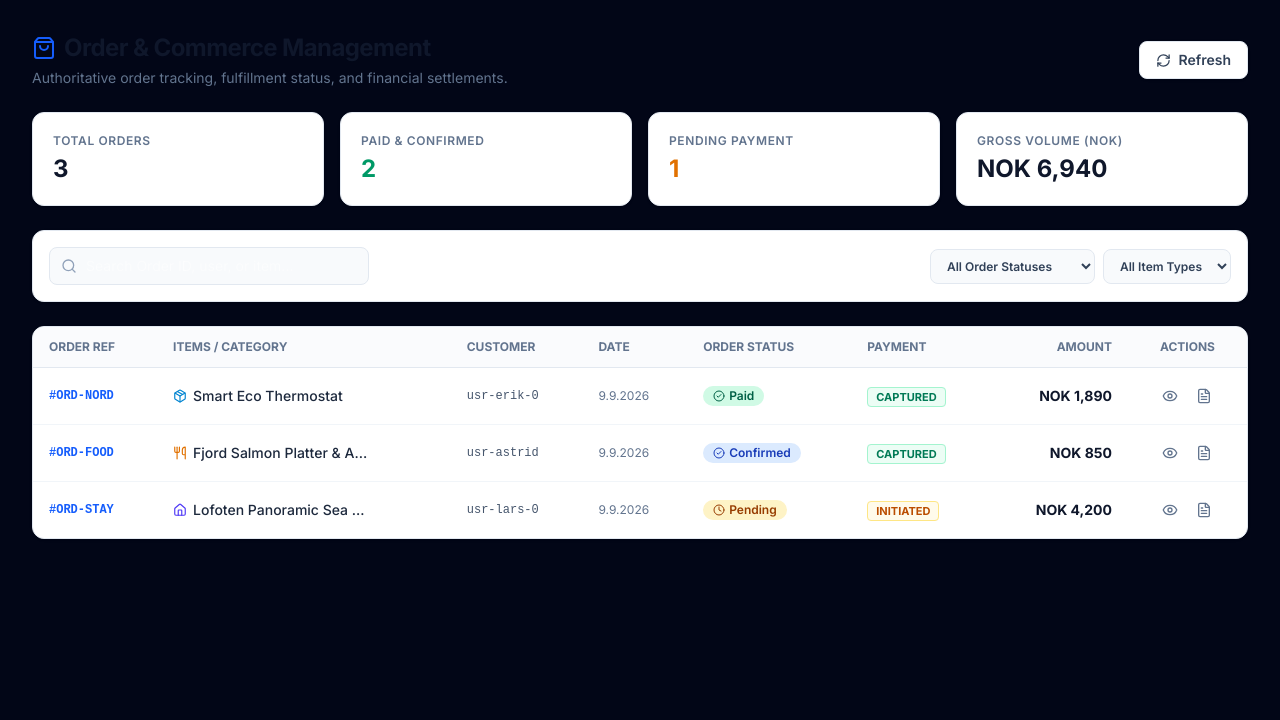
Scenario: Admin Commerce Integration Tests (Requirement 23) › AdminOrders Component › opens order details modal when eye button is clicked
Expected: the text "Smart Eco Thermostat" is shown, [193, 386, 343, 406]
Click the button titled "View Order Details" in the row of "ORD-NORD". click: (1170, 396)
box: [1156, 382, 1184, 410]
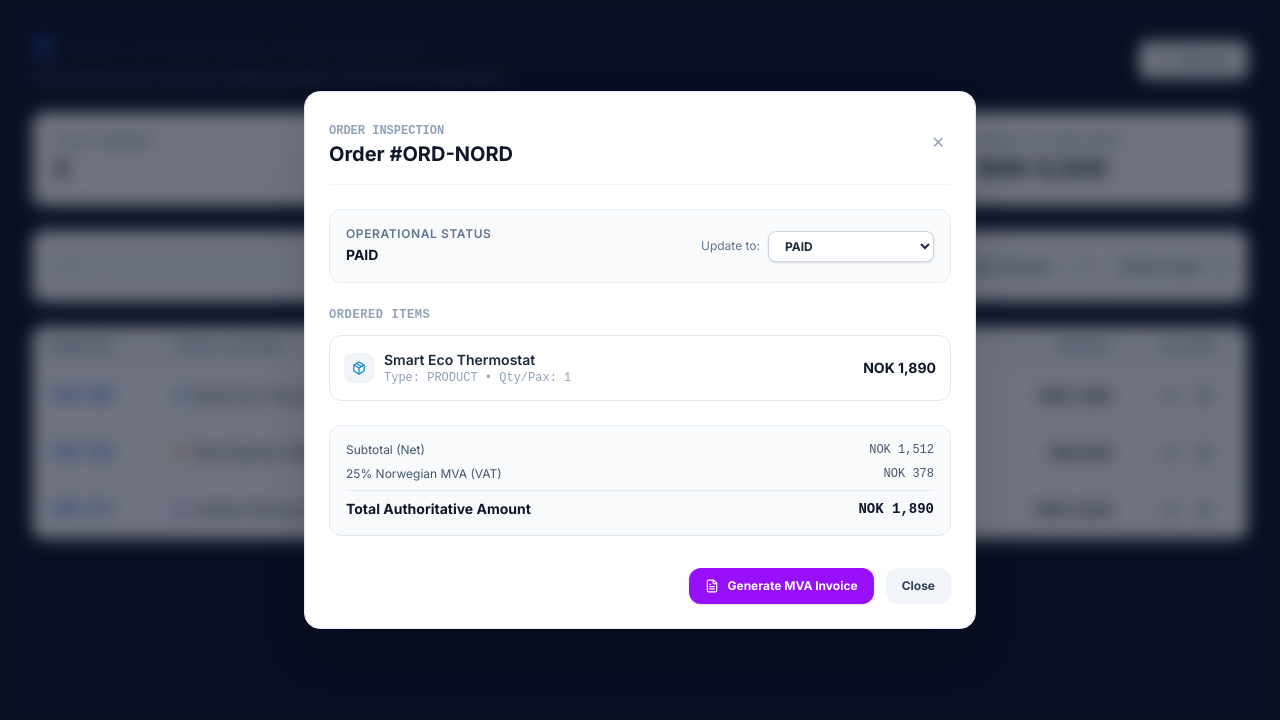
Result: the text "Order Inspection" is shown at [329, 124, 444, 138]
Result: the heading "Ordered Items" is shown at [329, 308, 430, 322]
Result: the text "25% Norwegian MVA (VAT)" is shown at [346, 466, 502, 482]
